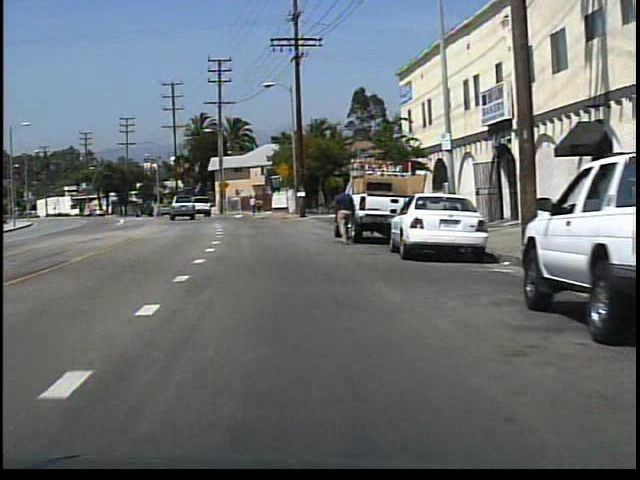person: (330, 184, 357, 247), (248, 195, 258, 217), (255, 197, 266, 215)
